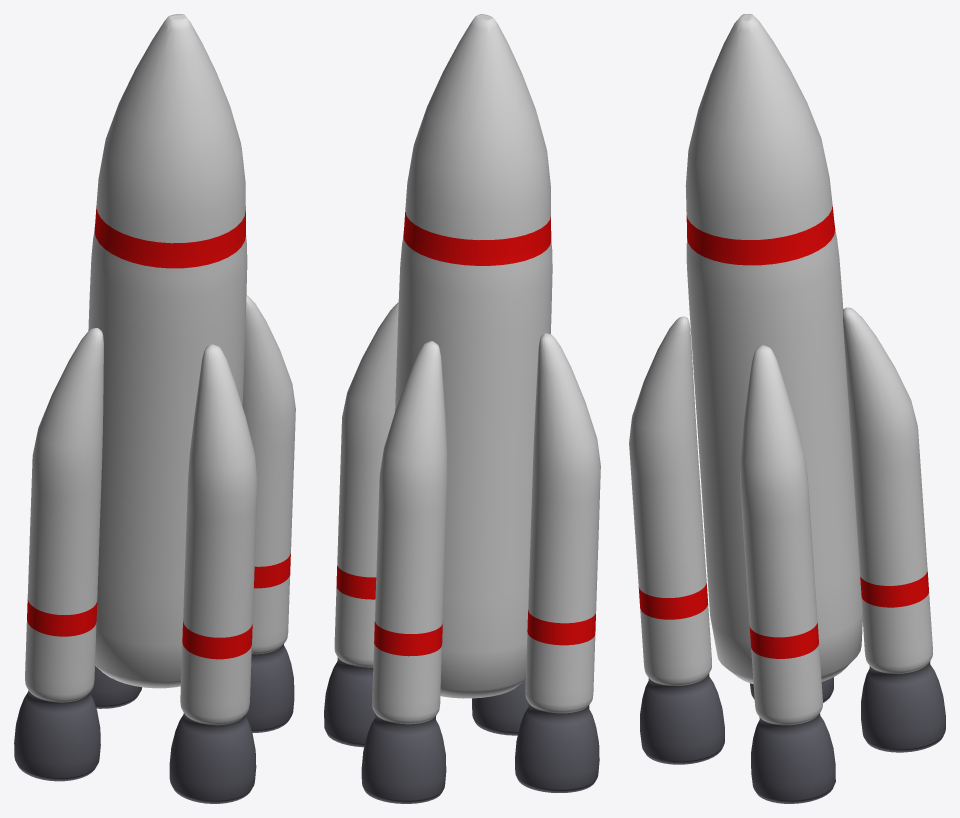
File: Hidrogeno.FBX
3 views of the same model, side by side, from view 1: azimuth 30°, elevation 25°; view 2: azimuth 150°, elevation 25°; view 3: azimuth 270°, elevation 25° (orthographic). The views are drawn at different scales.
Parts seen in each view (by area): view 1: Cylinder001; view 2: Cylinder001; view 3: Cylinder001.
Boxes of the visible parts, <box> form: Cylinder001: <box>14,14,295,803</box>; Cylinder001: <box>324,14,600,803</box>; Cylinder001: <box>629,14,945,803</box>.
Bounding box in the file's own units: 16.33 × 43.23 × 16.97.
